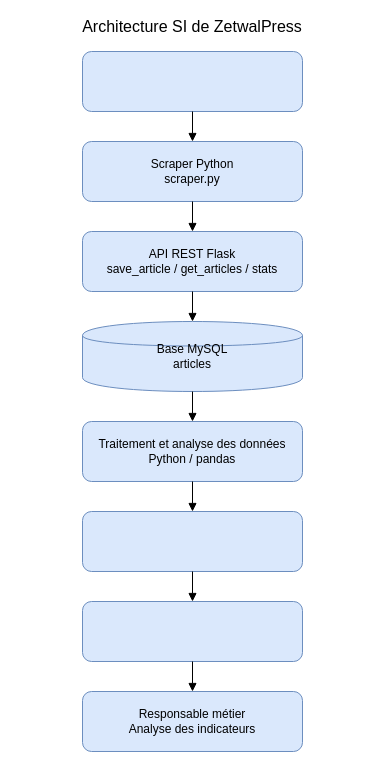
Image size: 384x769. Some labels were removed from this diagram. Here are the shapes that lost their labels. From the top down, the centre of each, then its label:
point 192,81: Sources d'actualité
point 192,541: Export Excel export_dashboard_data.py
point 192,631: Dashboard décisionnel Excel
